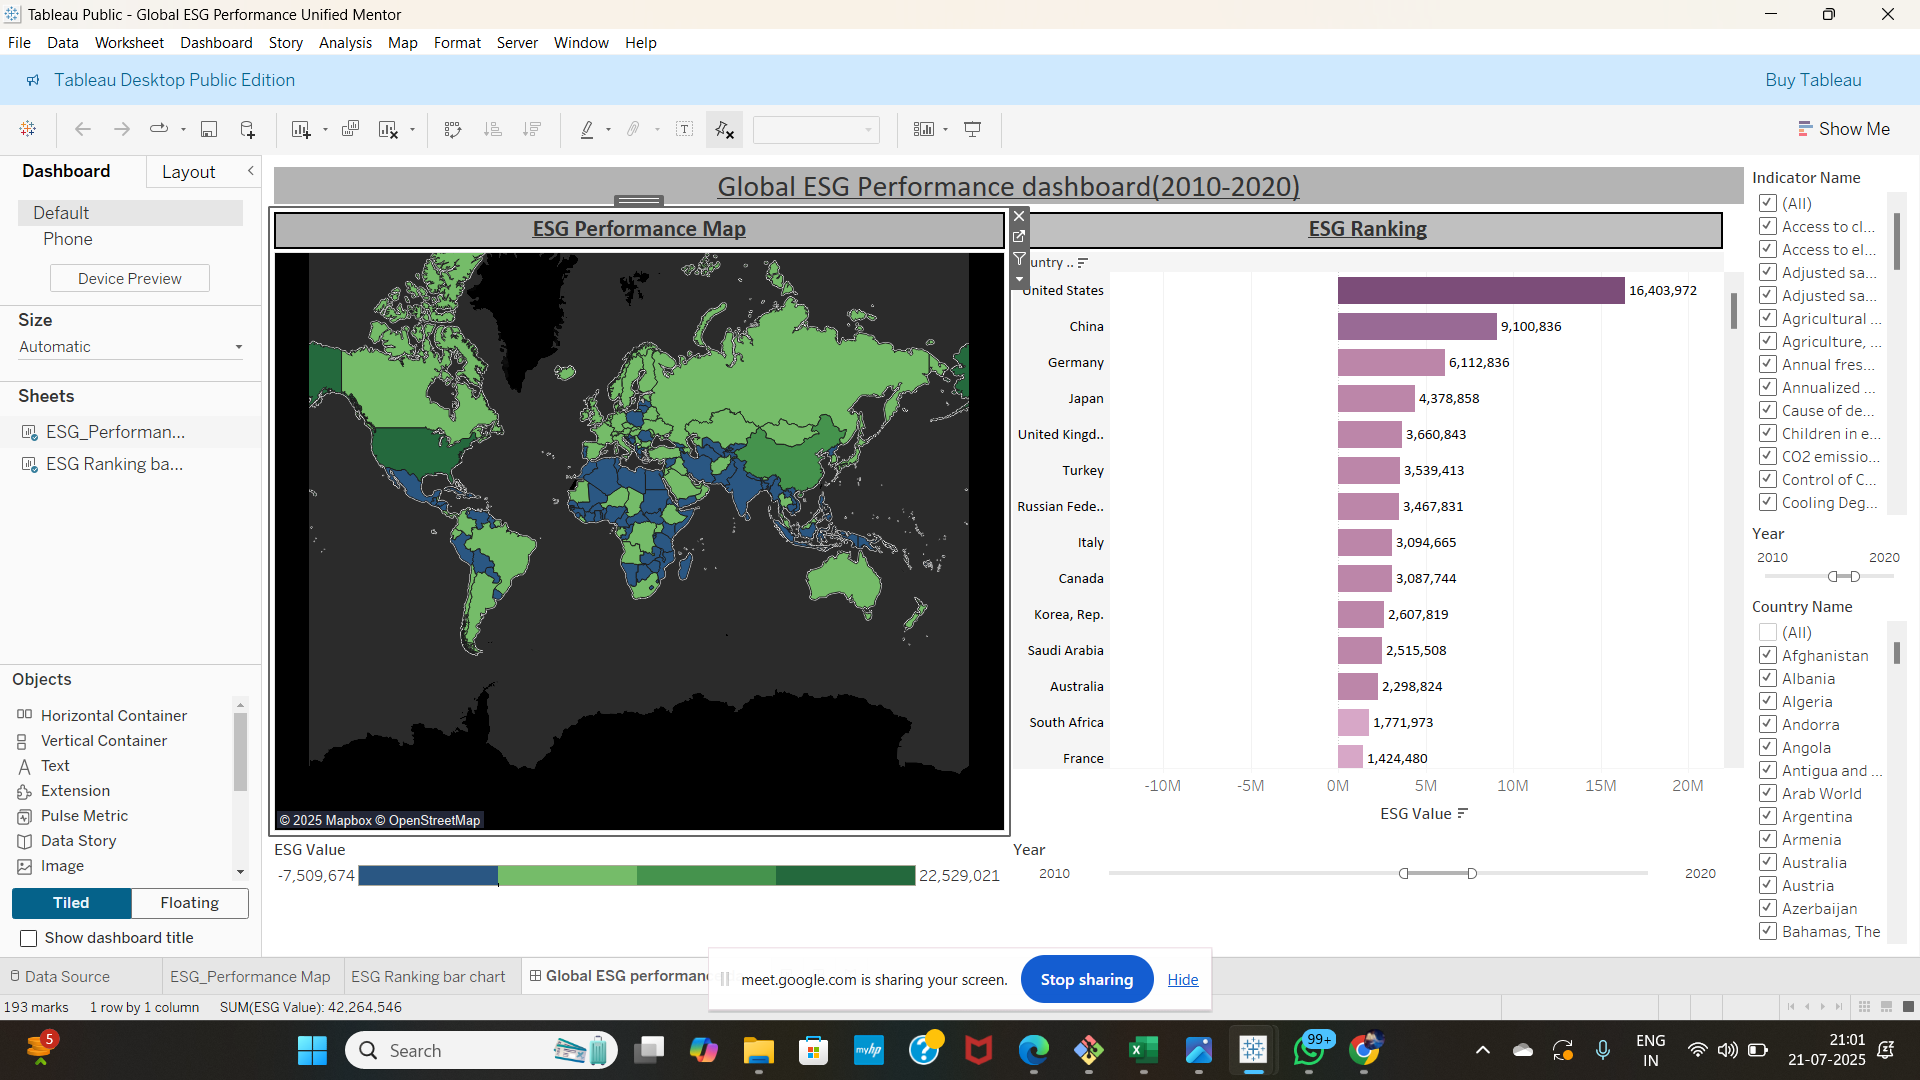

The dashboard page shown, as its layout file describes it:
{"tool":"tableau","page":{"name":"Global ESG performance dashboard","canvas":[1000,1000],"units":"permille","ordinal":0},"visuals":[{"type":"title","box":[4.8,10,892,56.2]},{"type":"filter","title":"ESG_Performance Map","param":"[federated.08okun51s3k7v1197llfj1lzcvb6].[none:Indicator Name:nk]","box":[896.8,10,98.4,444.4]},{"type":"worksheet","title":"ESG_Performance Map","mark":"Multipolygon","box":[4.8,66.2,445.9,783.3]},{"type":"worksheet","title":"ESG Ranking bar chart","mark":"Automatic","rows":["Country Name"],"cols":["ESG_Value"],"box":[450.8,66.2,446,783.3]},{"type":"filter","title":"ESG_Performance Map","param":"[federated.08okun51s3k7v1197llfj1lzcvb6].[none:year:qk]","box":[896.8,454.4,98.4,91.1]},{"type":"filter","title":"ESG Ranking bar chart","param":"[federated.08okun51s3k7v1197llfj1lzcvb6].[none:Country Name:nk]","box":[896.8,545.6,98.4,444.4]},{"type":"legend","title":"ESG_Performance Map","param":"[federated.08okun51s3k7v1197llfj1lzcvb6].[sum:ESG_Value:qk]","box":[4.8,849.4,445.9,140.6]},{"type":"filter","title":"ESG Ranking bar chart","param":"[federated.08okun51s3k7v1197llfj1lzcvb6].[none:year:qk]","box":[450.8,849.4,446,140.6]}]}

Visuals, with their boxes on the dashboard's canvas, which has no fixed pixel size, in thousandths of its width and height (x1, y1, x2, y2). These are canvas units, not pixel positions in the 1920x1080 screenshot, which may show the page scaled, cropped or inside an application window:
title: box(5, 10, 897, 66)
"ESG_Performance Map" filter: box(897, 10, 995, 454)
"ESG_Performance Map" worksheet (Multipolygon marks): box(5, 66, 451, 850)
"ESG Ranking bar chart" worksheet: box(451, 66, 897, 850)
"ESG_Performance Map" filter: box(897, 454, 995, 546)
"ESG Ranking bar chart" filter: box(897, 546, 995, 990)
"ESG_Performance Map" legend: box(5, 849, 451, 990)
"ESG Ranking bar chart" filter: box(451, 849, 897, 990)
